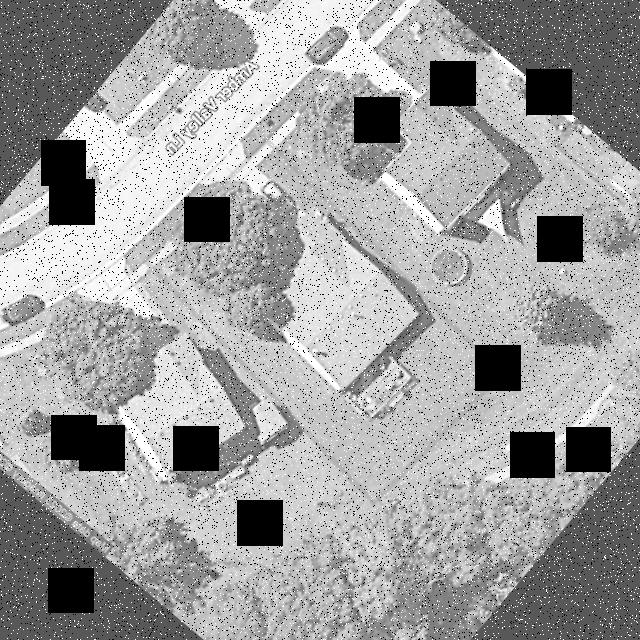Driveway: (227, 160, 305, 235)
Extra Driveway: (198, 138, 244, 183)
Extra Lawn: (132, 181, 221, 258), (241, 126, 265, 156)
House: (230, 210, 419, 393)
Other: (343, 352, 418, 417)
